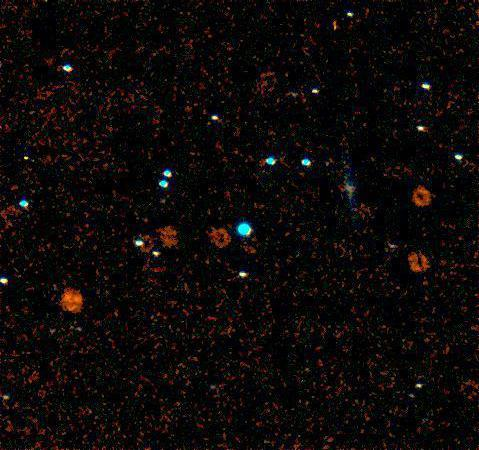star: (321, 12, 351, 42)
